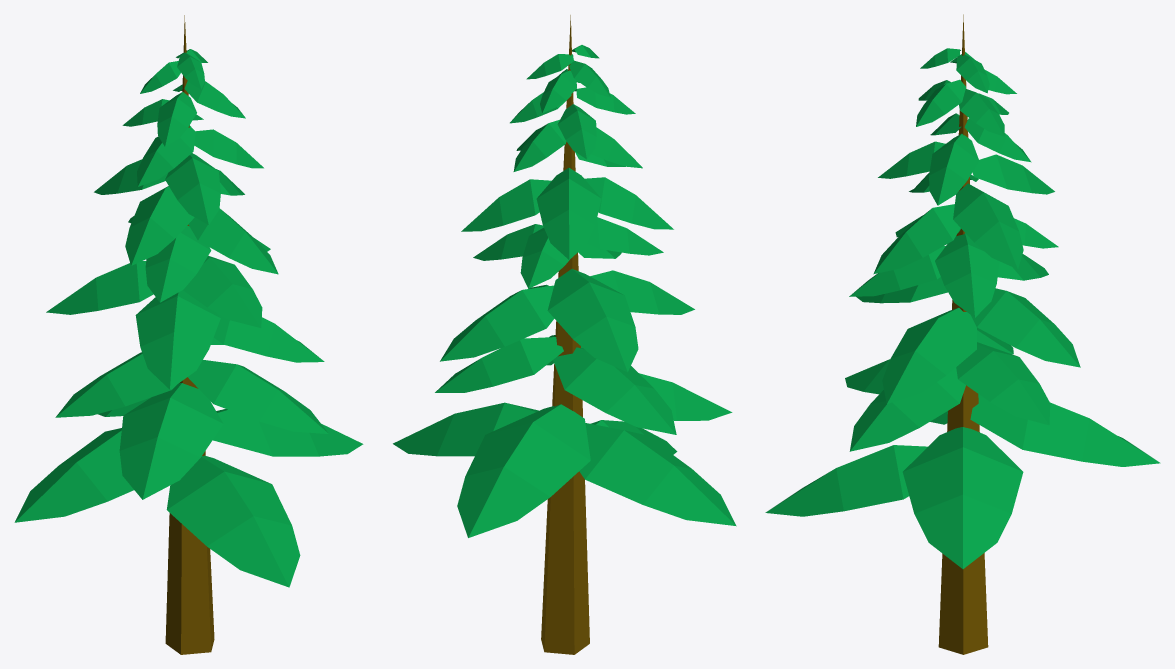
The model's file is tree.fbx.
3 views of the same model, side by side, from view 1: azimuth 30°, elevation 25°; view 2: azimuth 150°, elevation 25°; view 3: azimuth 270°, elevation 25° (orthographic).
Visible parts, largest first — view 1: tree; view 2: tree; view 3: tree.
Part boxes in pixels (<box>): tree: <box>14,15,363,654</box>; tree: <box>393,15,736,654</box>; tree: <box>765,14,1160,654</box>.
Size of the model in its own units: 3.09 by 5.38 by 3.08.
